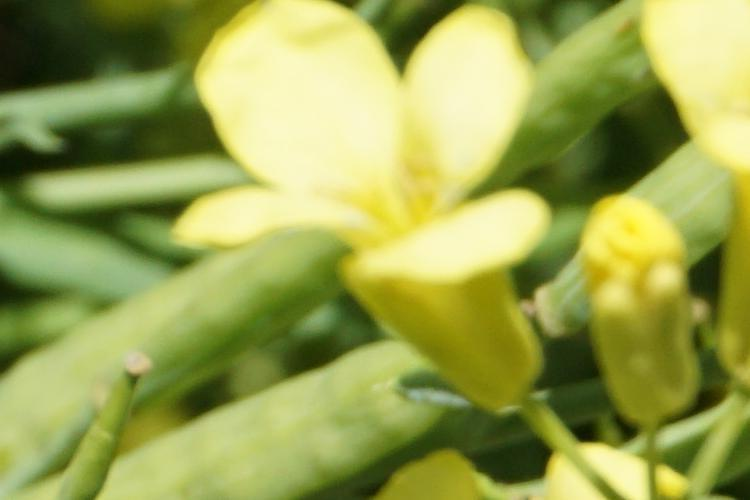pod: (42, 343, 181, 473)
yellow: (178, 8, 535, 369)
